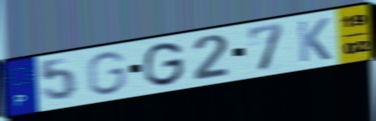2: (191, 33, 233, 83)
5: (37, 55, 82, 106)
7: (246, 20, 286, 74)
G: (142, 40, 186, 89), (85, 50, 129, 97)
K: (295, 16, 333, 65)
